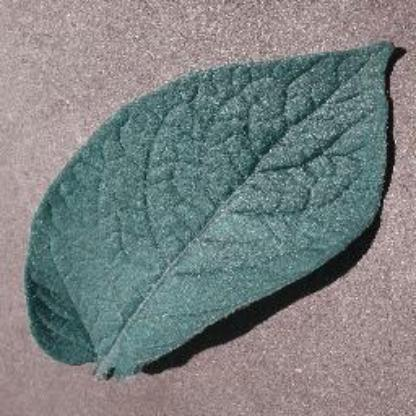Healthy-plant: (25, 32, 401, 384)
